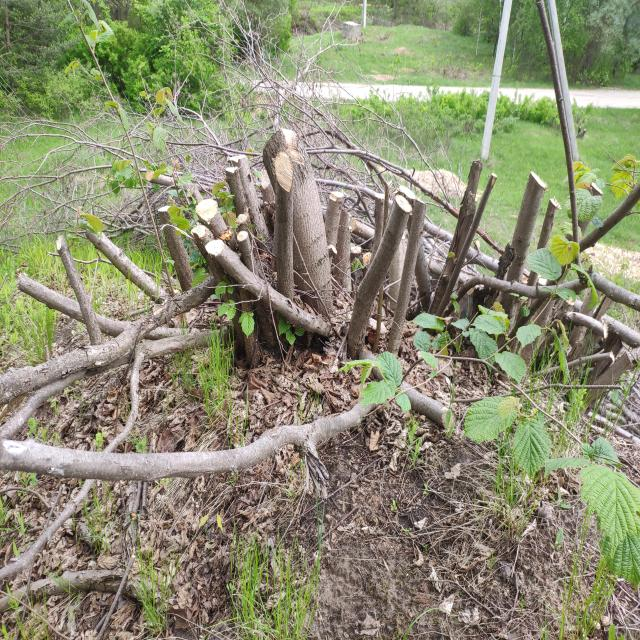restos de madeira: (337, 200, 415, 381), (265, 130, 330, 340), (1, 310, 141, 404), (429, 156, 504, 318), (196, 206, 262, 368), (494, 171, 554, 327), (443, 267, 640, 313), (21, 269, 142, 334), (140, 267, 225, 350), (388, 190, 430, 352), (226, 150, 280, 268), (574, 173, 639, 270), (94, 222, 169, 305), (56, 237, 104, 355), (200, 190, 252, 290), (334, 138, 402, 214), (570, 328, 640, 401), (376, 370, 456, 433), (271, 159, 297, 306), (557, 304, 640, 350), (326, 192, 356, 302), (160, 198, 190, 291)
